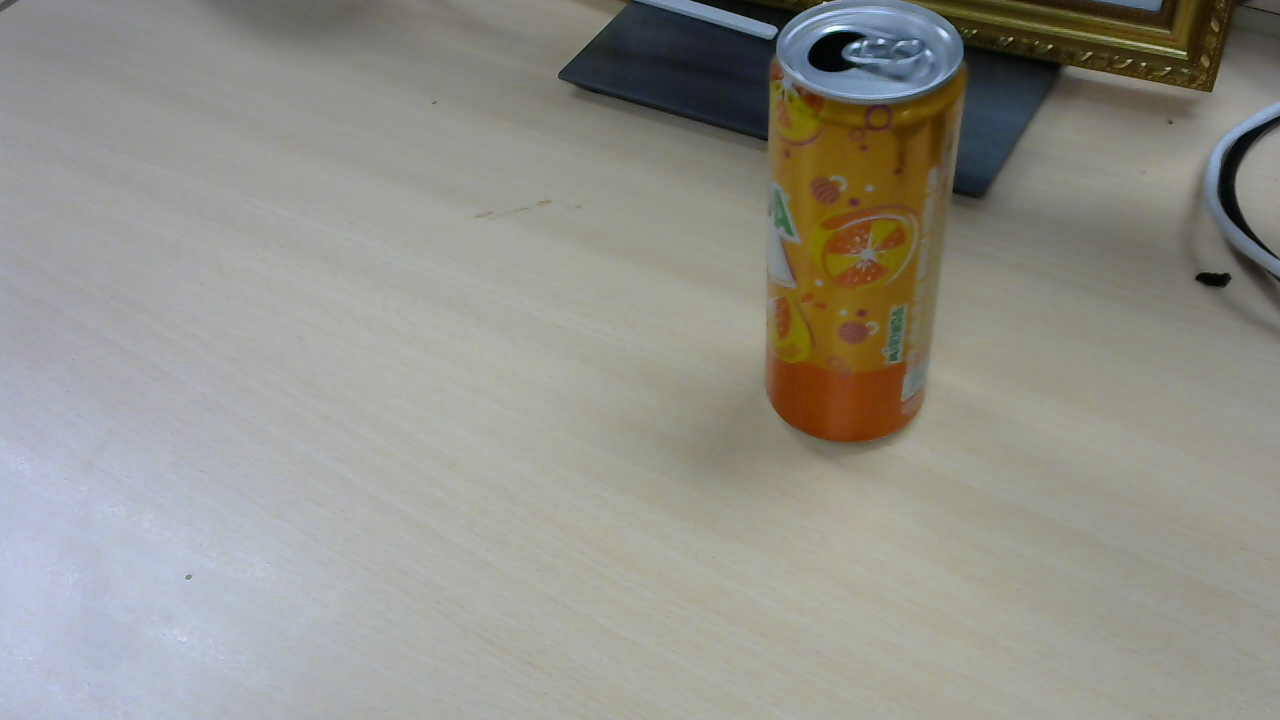Mirinda: (761, 8, 981, 445)
